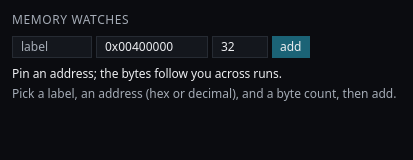
Test: MemoryWatches › rejects an unparseable address with a visible message
Step 1. Type "bad" into the field named "watch label" → point(52, 47), box x1=12 y1=36 x2=92 y2=58
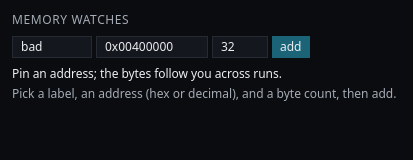
Step 2. Type "zz" into the field named "watch address" → point(152, 47), box x1=96 y1=36 x2=208 y2=58
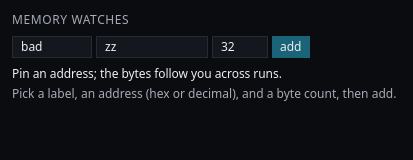
Step 3. Replace the text in the number field named "watch byte length" with "4" → point(240, 47), box x1=212 y1=36 x2=268 y2=58
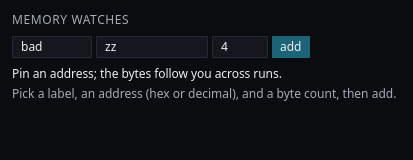
Step 4. Click the button "add" → point(291, 47), box x1=272 y1=36 x2=310 y2=58
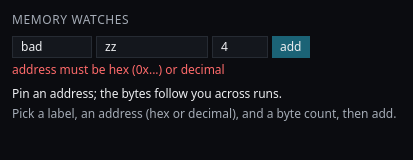
Expected: the text "Pin an address; the bytes follow you across runs." is shown, x1=12 y1=86 x2=282 y2=102
Result: the message reads "address must be hex (0x...) or decimal" at x1=12 y1=61 x2=225 y2=78
